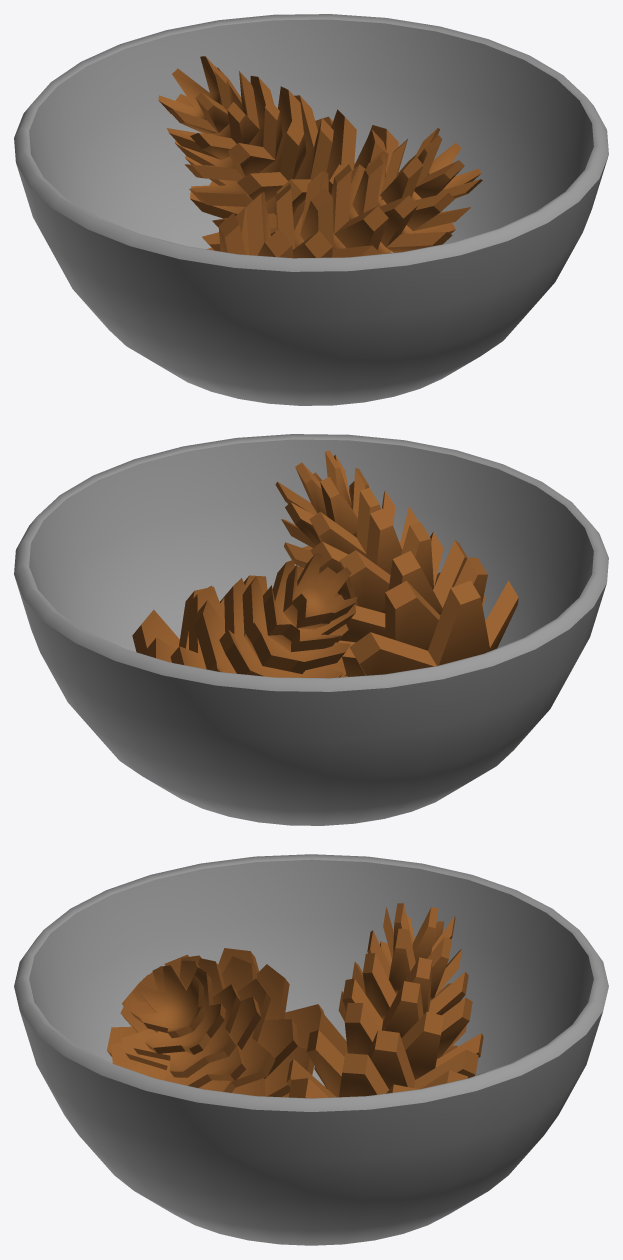
Rendered from Bol.FBX.
The picture shows the model from 3 angles, top to bottom: view 1: azimuth 30°, elevation 25°; view 2: azimuth 150°, elevation 25°; view 3: azimuth 270°, elevation 25°; orthographic projection.
Parts seen in each view (by area): view 1: Sphere001, Star005, Star006, Star014, Star004, Star008, Star007, Star013, Star015, Star016, Star012, Star011 (+4 smaller); view 2: Sphere001, Star009, Star010, Star011, Star012, Star006, Star008, Star007, Star005, Star014, Star013, Star015 (+5 smaller); view 3: Sphere001, Star003, Star004, Star013, Star005, Star014, Star006, Star012, Star016, Star011, Star010, Star007 (+5 smaller).
Boxes of the visible parts, bbox=[...] form: Sphere001: bbox=[14, 14, 608, 405]; Star005: bbox=[185, 86, 306, 206]; Star006: bbox=[175, 76, 282, 181]; Star014: bbox=[352, 150, 455, 252]; Star004: bbox=[190, 95, 333, 228]; Star008: bbox=[158, 56, 234, 133]; Star007: bbox=[167, 67, 259, 159]; Star013: bbox=[331, 164, 407, 254]; Star015: bbox=[380, 139, 470, 230]; Star016: bbox=[412, 128, 482, 198]; Star012: bbox=[300, 170, 380, 257]; Star011: bbox=[275, 183, 332, 258]; Sphere001: bbox=[14, 434, 608, 825]; Star009: bbox=[349, 580, 518, 675]; Star010: bbox=[338, 557, 487, 676]; Star011: bbox=[340, 540, 467, 642]; Star012: bbox=[339, 522, 443, 613]; Star006: bbox=[242, 565, 350, 673]; Star008: bbox=[283, 553, 357, 629]; Star007: bbox=[263, 560, 355, 651]; Star005: bbox=[219, 578, 348, 678]; Star014: bbox=[284, 487, 395, 574]; Star013: bbox=[310, 506, 418, 599]; Star015: bbox=[281, 468, 369, 547]; Sphere001: bbox=[14, 854, 608, 1245]; Star003: bbox=[307, 1030, 485, 1097]; Star004: bbox=[319, 1003, 483, 1079]; Star013: bbox=[121, 958, 261, 1087]; Star005: bbox=[338, 978, 472, 1058]; Star014: bbox=[128, 960, 241, 1077]; Star006: bbox=[352, 953, 468, 1020]; Star012: bbox=[120, 955, 275, 1092]; Star016: bbox=[137, 965, 205, 1038]; Star011: bbox=[111, 956, 297, 1096]; Star010: bbox=[107, 954, 313, 1097]; Star007: bbox=[367, 928, 461, 999].
Bounding box in the file's own units: 30.74 × 14.26 × 30.74.
